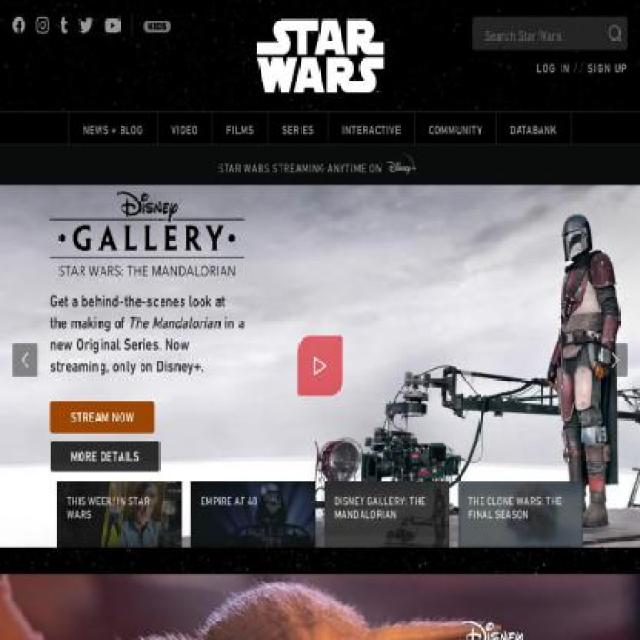button: (0, 145, 640, 183), (50, 439, 135, 473), (83, 123, 143, 137), (342, 123, 401, 137), (428, 123, 482, 137), (509, 123, 557, 137), (281, 123, 314, 137), (143, 19, 171, 33), (226, 123, 254, 137), (171, 123, 198, 137), (104, 18, 121, 34), (12, 16, 25, 33), (36, 16, 49, 33), (79, 18, 93, 33), (60, 16, 68, 33)
field: (478, 19, 602, 52)
